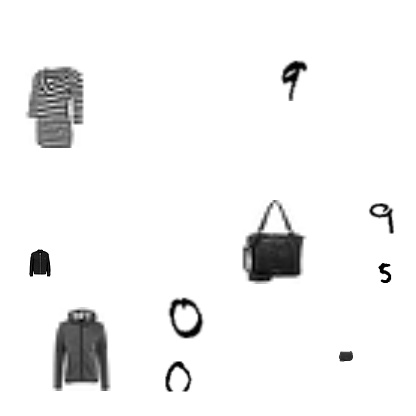0: (156, 290, 212, 346), (155, 354, 197, 396)
5: (371, 258, 399, 286)
9: (265, 45, 321, 101), (362, 193, 404, 235)
Bag: (231, 200, 315, 284), (339, 349, 353, 363)
Coat: (38, 307, 122, 391), (26, 249, 54, 277)
Shirt: (11, 64, 95, 148)
